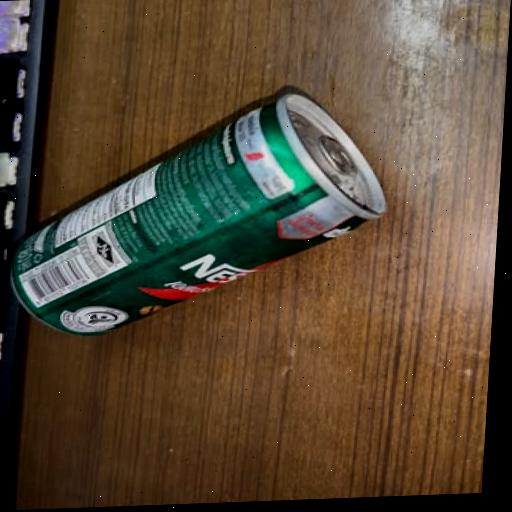bottle: (0, 78, 419, 357)
